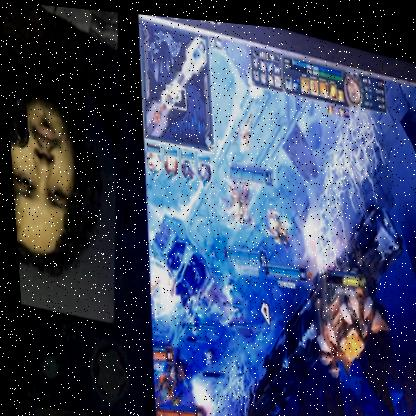streamer: (0, 0, 132, 285)
